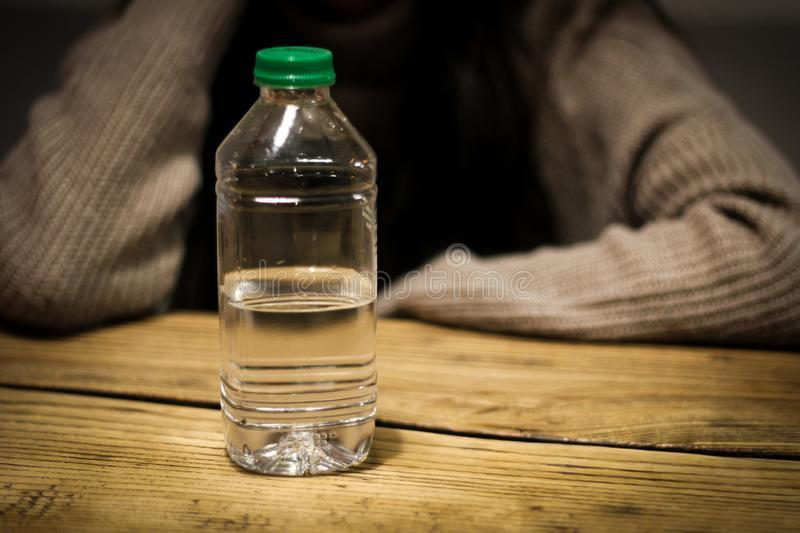plastic_bottle: (204, 41, 389, 477)
